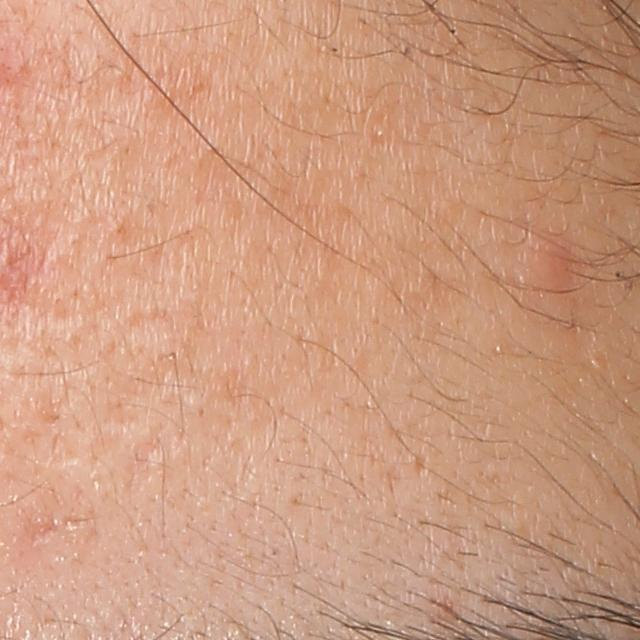papule: (529, 240, 572, 292)
